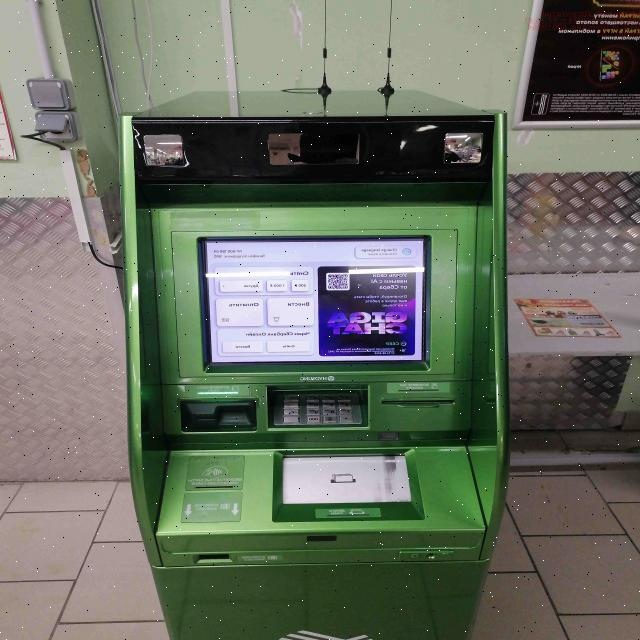bank: (124, 85, 511, 640)
